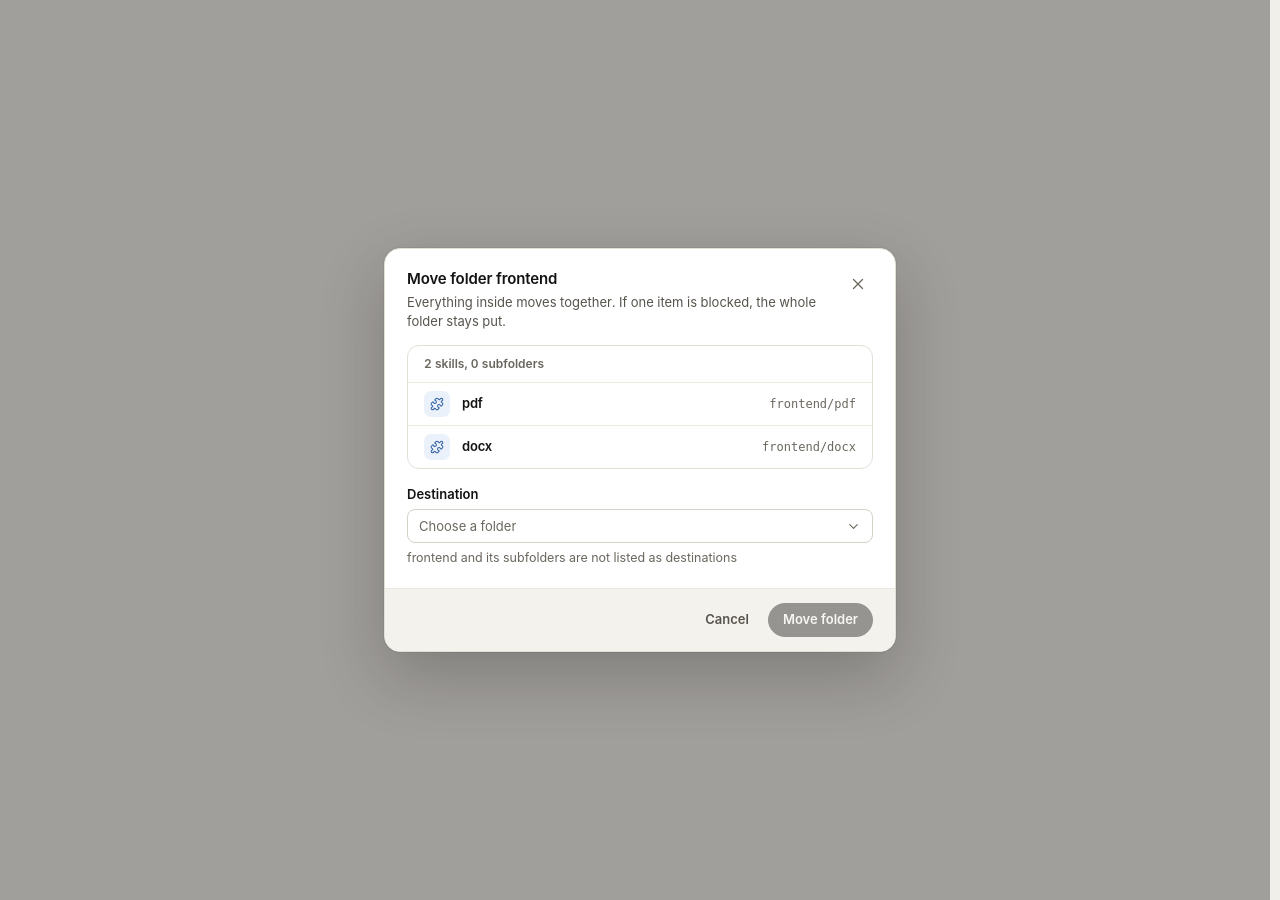
Test: MoveDialog › counts the skills under a moved folder, not the one result
Click the dropdown named "Destination".
click(468, 526)  # box x1=407 y1=510 x2=873 y2=544
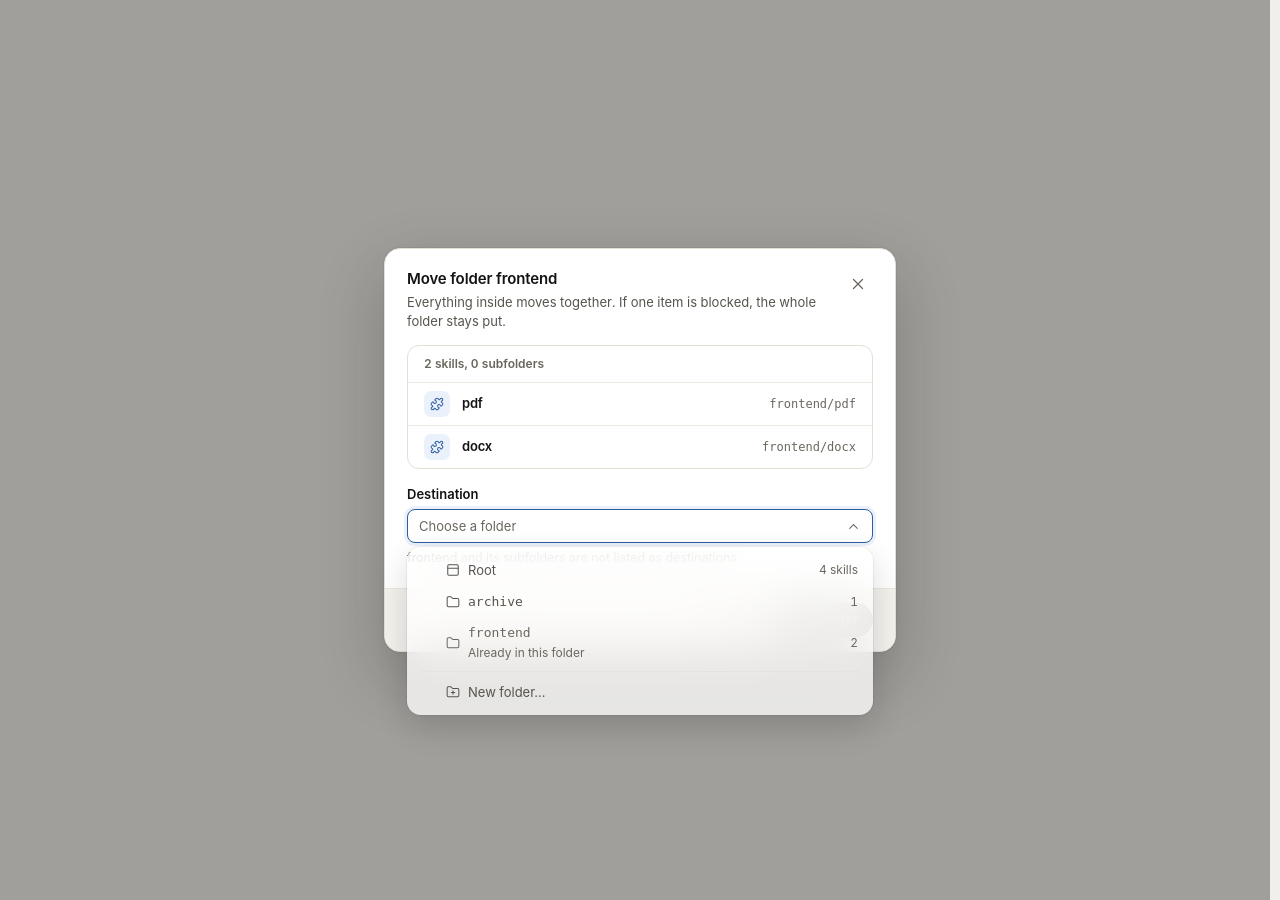
Click the option "archive 1".
click(495, 602)  # box x1=446 y1=594 x2=858 y2=609
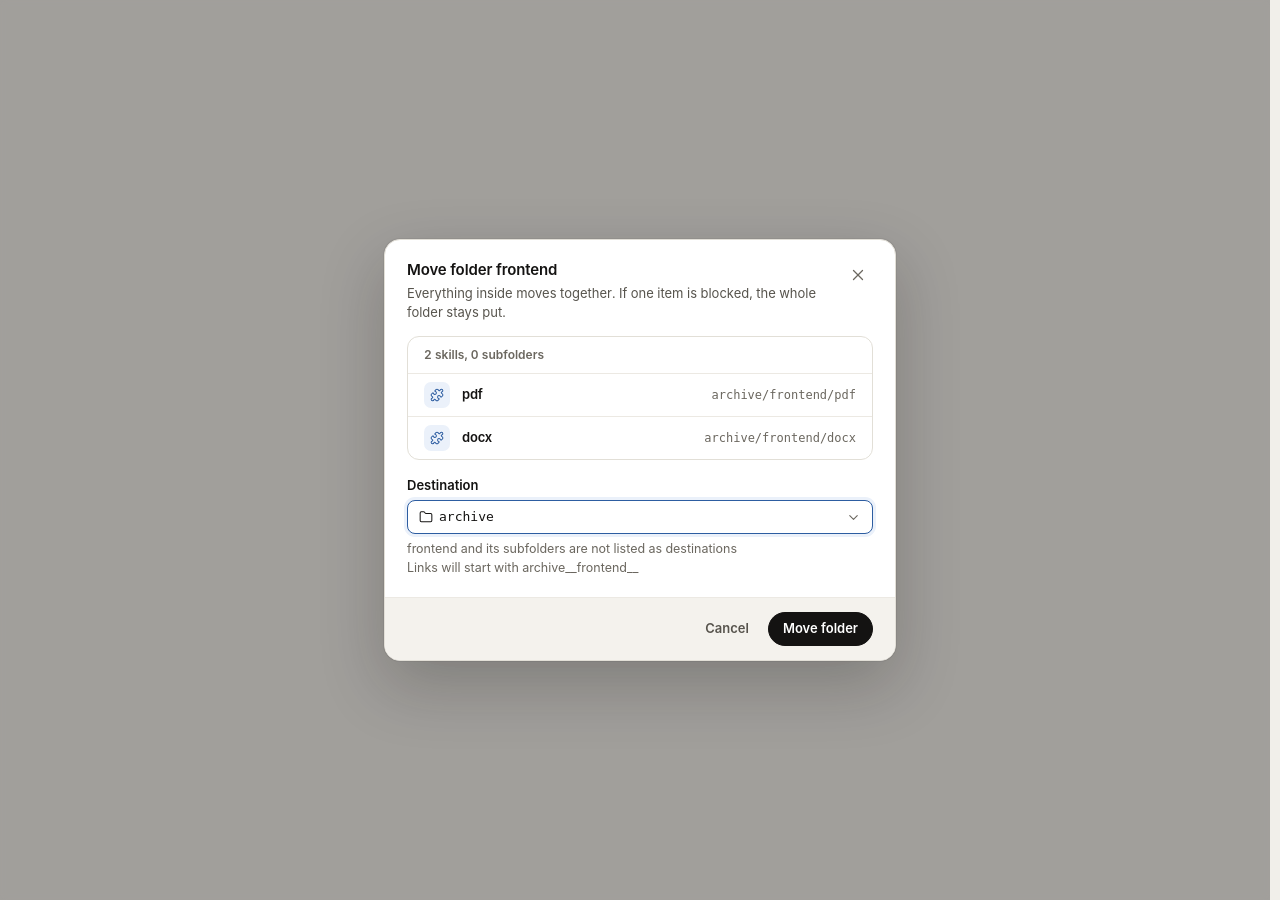
Click the button "Move folder".
click(820, 629)  # box x1=768 y1=612 x2=873 y2=646
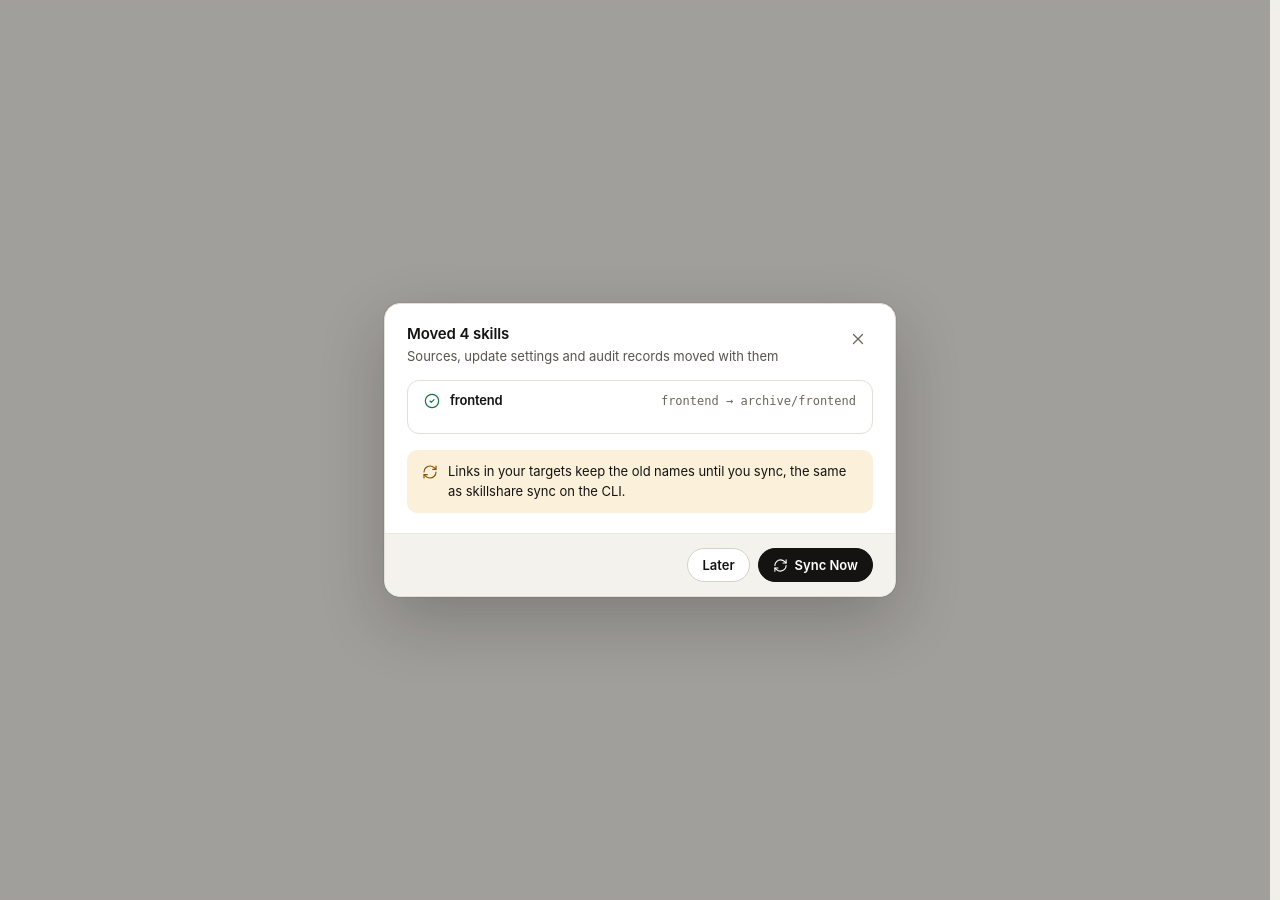
Check: the heading "Moved 4 skills" is shown, box x1=407 y1=324 x2=509 y2=343
